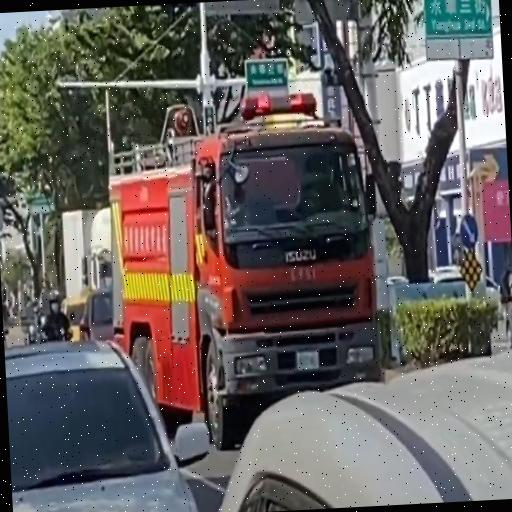fire truck: (109, 92, 381, 449)
